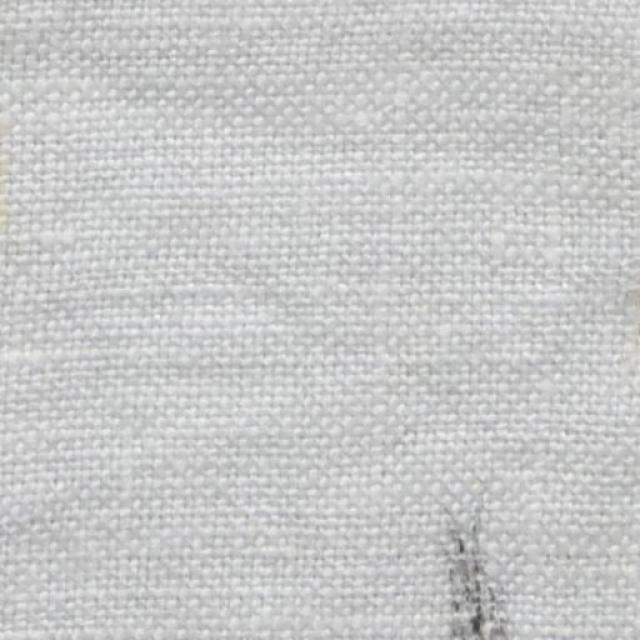Stain: (441, 511, 513, 640)
